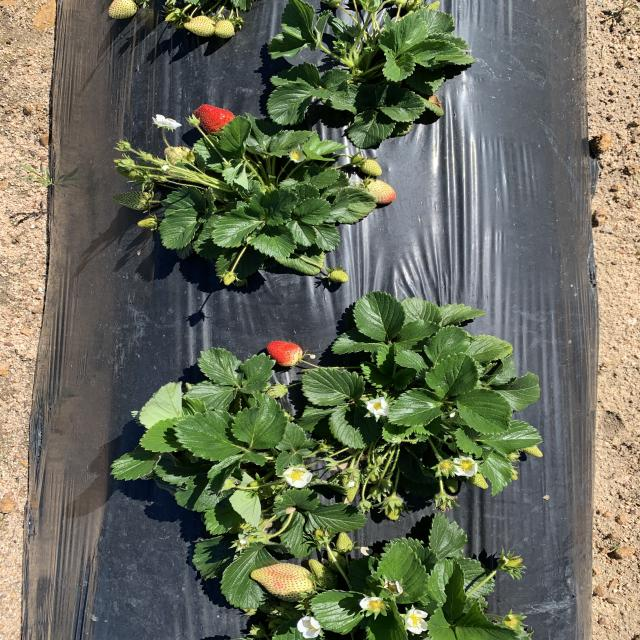unripe: (189, 102, 240, 134), (266, 339, 305, 368)
